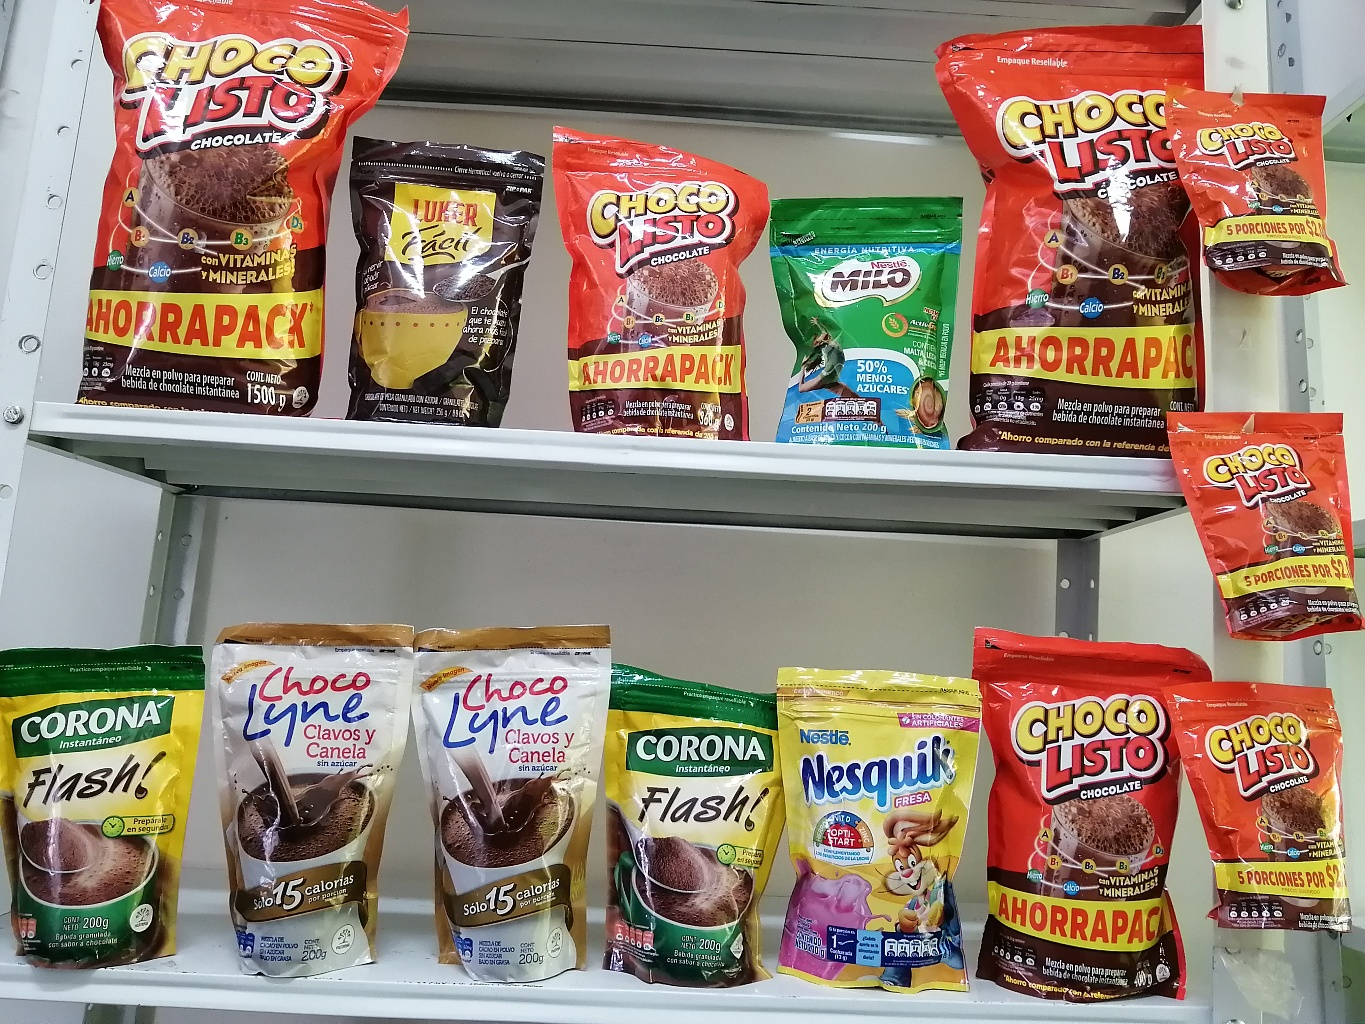COL0170103DYP1,500: (80, 0, 398, 408)
COL0170103DYP10000: (1167, 383, 1365, 638)
COL0170103DYP36000: (548, 100, 780, 451)
COL0170103DYP40000: (980, 612, 1202, 1022)
COL0170205DYP20000: (772, 182, 969, 455)
COL0170305DYP20000: (762, 659, 999, 996)
